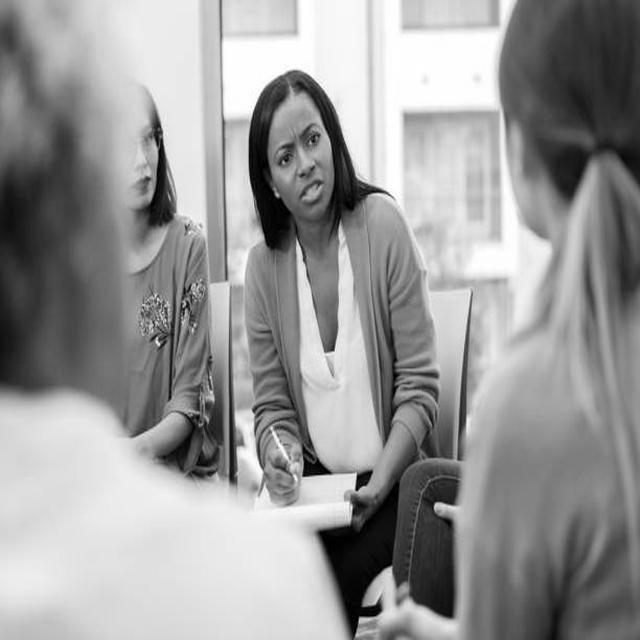Angry: (268, 98, 335, 223)
